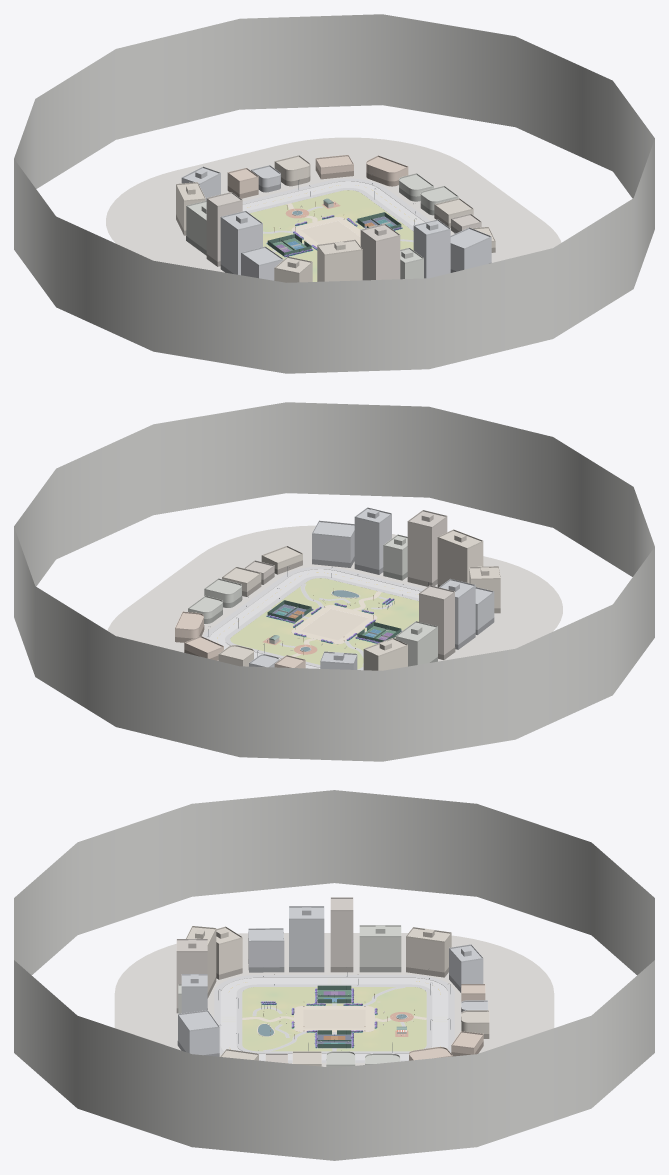
The model's file is SunsetDistrict.glb.
3 renders of one model, top to bottom at view 1: azimuth 30°, elevation 25°; view 2: azimuth 150°, elevation 25°; view 3: azimuth 270°, elevation 25°, orthographic. The views are drawn at different scales.
Visible parts, largest first — view 1: District_Skyline, District_Concrete, District_Facade, District_Grass, District_Paving, District_Paint, District_Asphalt, District_ChainLink, District_Acrylic; view 2: District_Skyline, District_Concrete, District_Facade, District_Grass, District_Paving, District_Asphalt, District_Paint, District_ChainLink, District_Acrylic; view 3: District_Skyline, District_Concrete, District_Facade, District_Grass, District_Paving, District_Asphalt, District_Paint, District_ChainLink, District_Acrylic, District_Hedges.
Part boxes in pixels (x1,y1,x2,y2): District_Skyline: [14, 14, 654, 373]; District_Concrete: [106, 137, 561, 273]; District_Facade: [176, 160, 495, 282]; District_Grass: [250, 190, 413, 281]; District_Paving: [242, 178, 430, 252]; District_Paint: [176, 165, 495, 273]; District_Asphalt: [242, 181, 424, 226]; District_ChainLink: [268, 212, 400, 256]; District_Acrylic: [267, 216, 396, 256]; District_Skyline: [14, 402, 654, 761]; District_Concrete: [107, 507, 562, 667]; District_Facade: [175, 515, 500, 670]; District_Grass: [230, 578, 418, 669]; District_Paving: [203, 566, 424, 670]; District_Asphalt: [209, 569, 420, 668]; District_Paint: [175, 556, 500, 666]; District_ChainLink: [268, 600, 400, 642]; District_Acrylic: [272, 604, 396, 640]; District_Skyline: [14, 790, 654, 1160]; District_Concrete: [114, 897, 554, 1066]; District_Facade: [176, 911, 489, 1067]; District_Grass: [242, 987, 426, 1051]; District_Paving: [214, 975, 454, 1062]; District_Asphalt: [220, 978, 448, 1060]; District_Paint: [176, 959, 489, 1056]; District_ChainLink: [317, 985, 351, 1047]; District_Acrylic: [317, 990, 351, 1048]; District_Hedges: [260, 988, 377, 1048].
Size of the model in its own units: 410 by 64 by 400.
